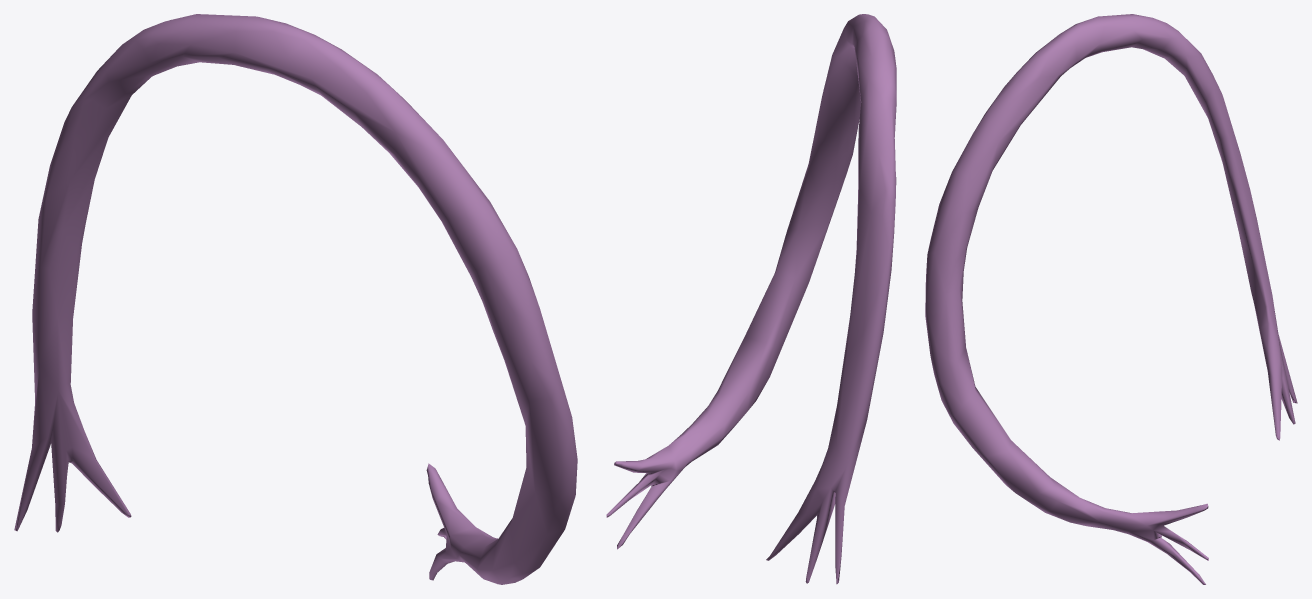
3 views of the same model, side by side, from view 1: azimuth 30°, elevation 25°; view 2: azimuth 150°, elevation 25°; view 3: azimuth 270°, elevation 25° (orthographic). The views are drawn at different scales.
Visible parts, largest first — view 1: 右侧终纹; view 2: 右侧终纹; view 3: 右侧终纹.
Boxes of the visible parts, x1=… form: 右侧终纹: x1=14, y1=14, x2=577, y2=584; 右侧终纹: x1=606, y1=14, x2=896, y2=584; 右侧终纹: x1=925, y1=14, x2=1297, y2=584.
Size of the model in its own units: 0.0367 by 0.0624 by 0.0441.
